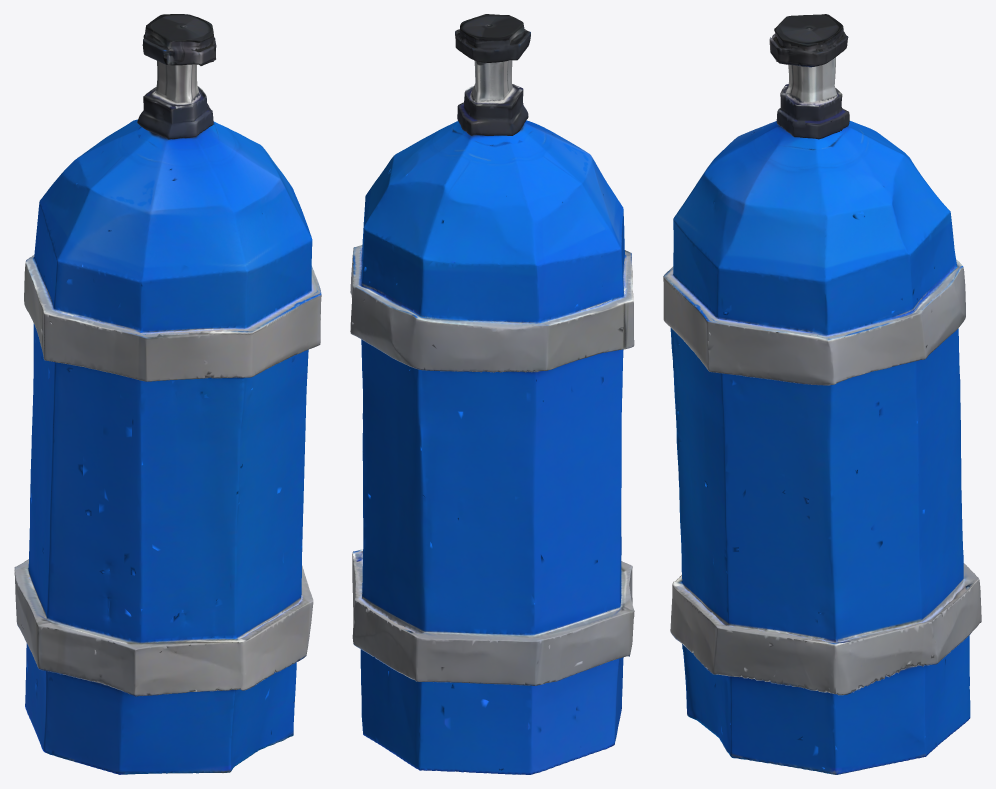
The model's file is Blue_Power_Capsule_0731104651_texture.fbx.
3 views of the same model, side by side, from view 1: azimuth 30°, elevation 25°; view 2: azimuth 150°, elevation 25°; view 3: azimuth 270°, elevation 25° (orthographic).
Parts seen in each view (by area): view 1: input; view 2: input; view 3: input.
Boxes of the visible parts, x1,y1,x2,y2 form: input: [14, 14, 321, 774]; input: [350, 14, 634, 774]; input: [663, 14, 981, 774].
Bounding box in the file's own units: 82.38 × 200 × 82.83.
1 material, 1 textured.
